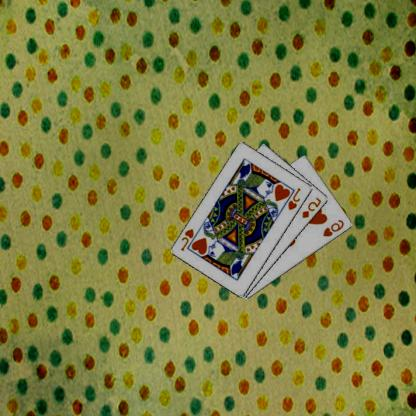5D: (302, 194, 324, 219)
6H: (323, 217, 347, 238)
JH: (287, 185, 304, 212), (180, 226, 197, 252)
